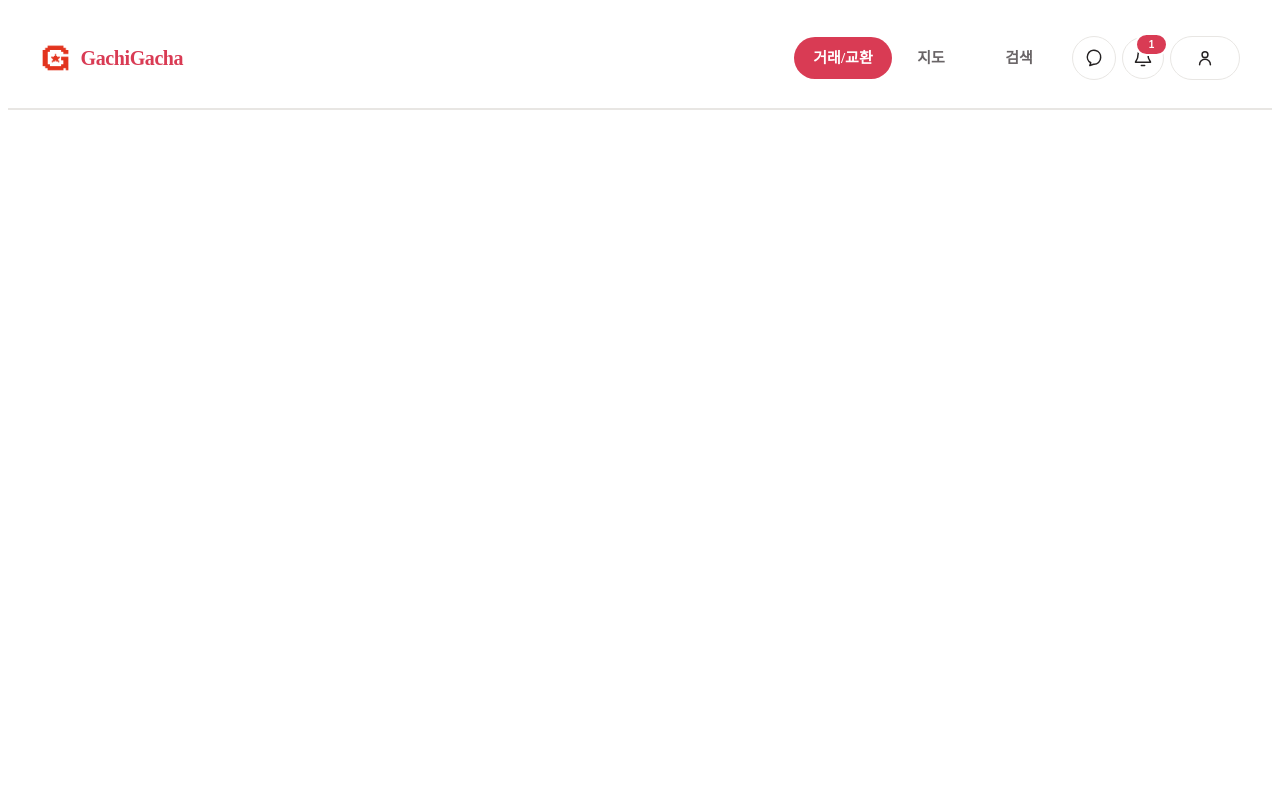
Test: NotificationProvider › 배지를 조회하고 팝오버를 열 때 댓글 알림을 불러온다
What coordinates should you click on to do the following:
click the button named "알림, 읽지 않은 알림 1개"
I would click on:
 (1143, 58)
Its box is [1122,37,1164,79].
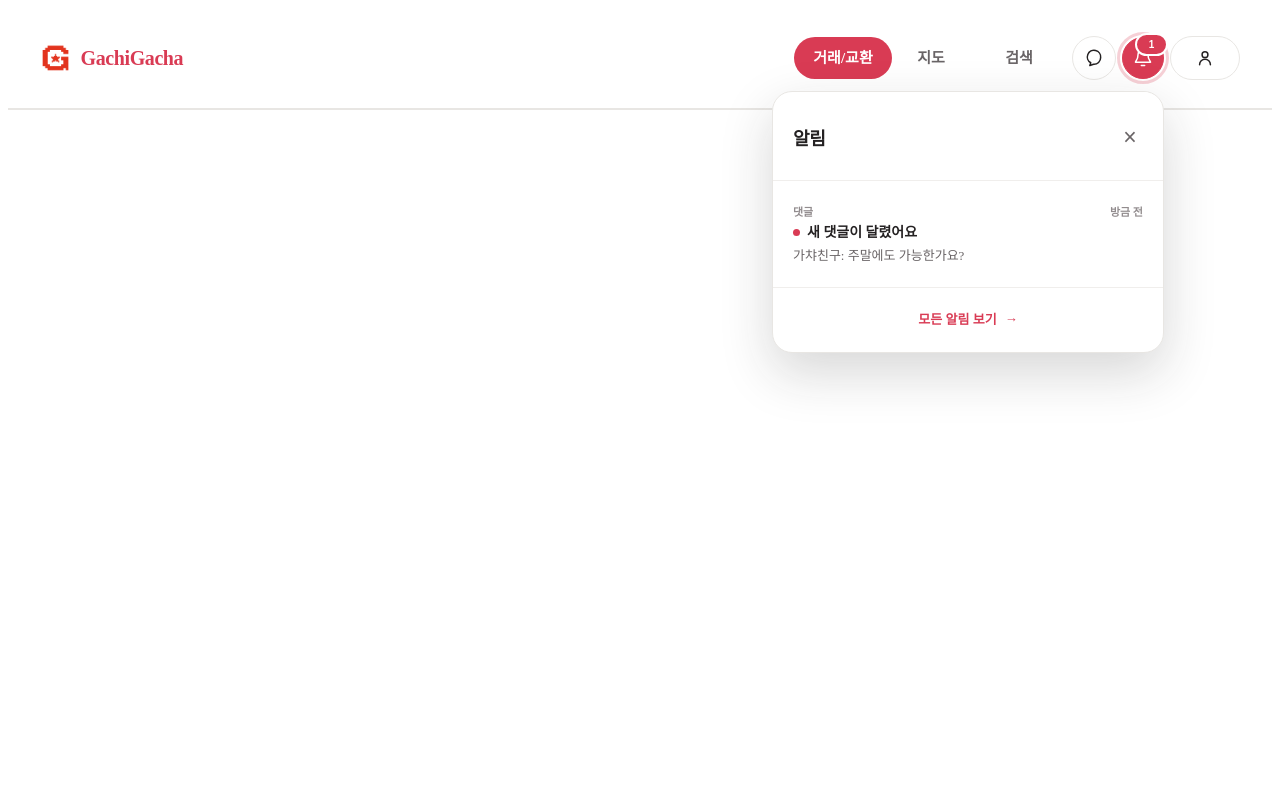
Now the text "가챠친구: 주말에도 가능한가요?" is shown, box [793,248,964,263]
